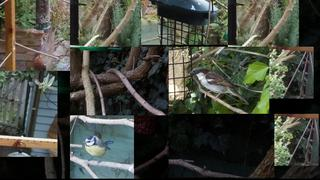blue tit: (83, 135, 114, 166)
sparrow: (189, 67, 249, 104)
